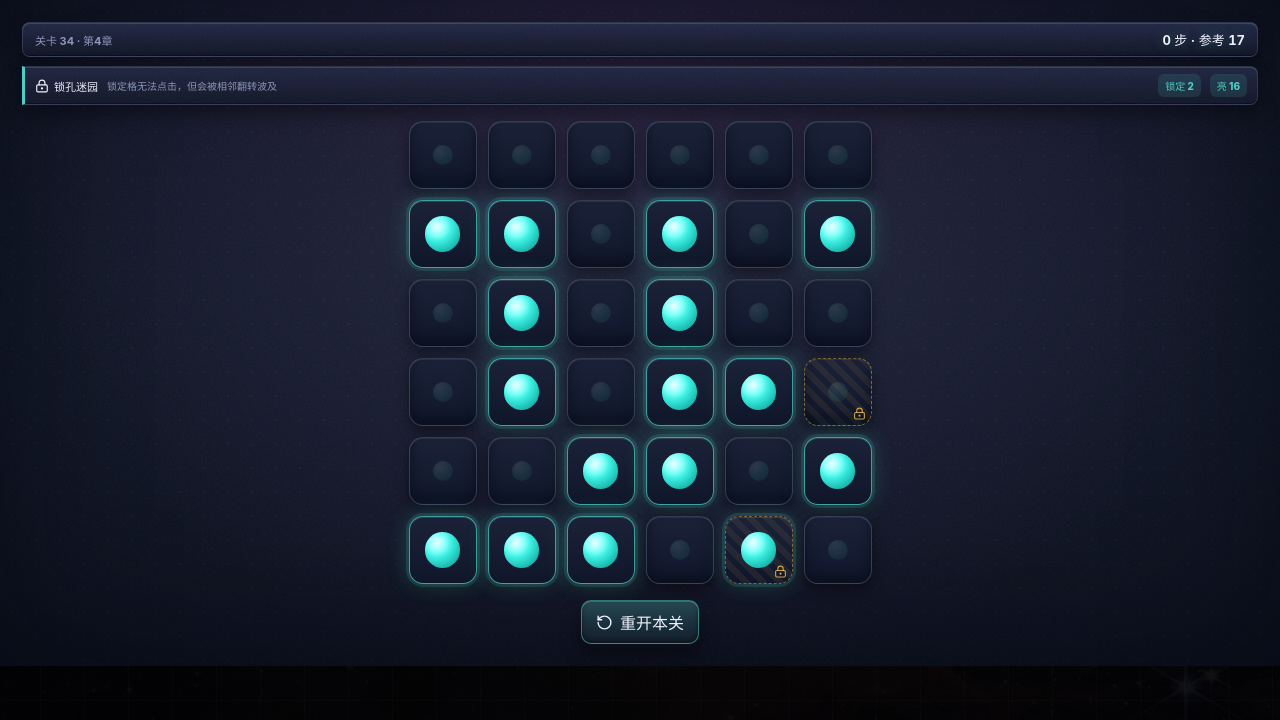
Test: lantern press tween › springs the cross of lamps around a press when motion is allowed
Click the button named "第5行第3列，灯亮" at {"x": 600, "y": 471}, box [566,437,634,505]
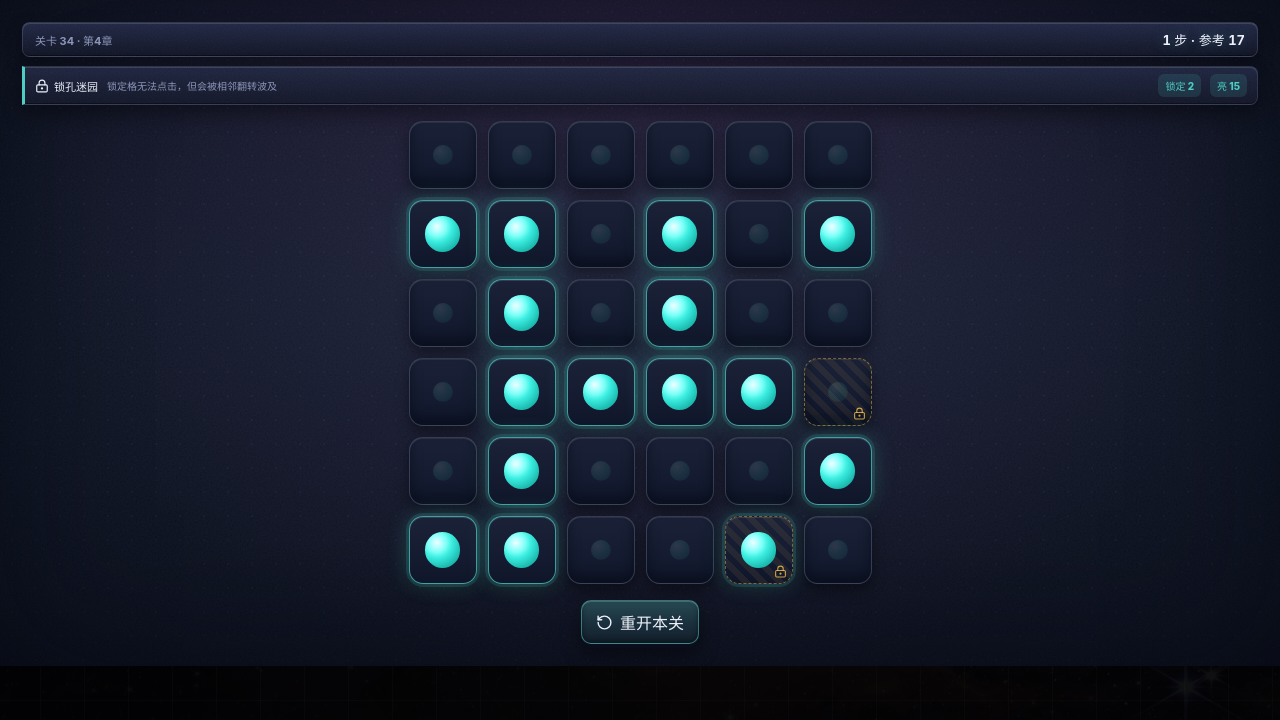
Expected: the element with class "lantern-readout" shows "1 步 · 参考 17", [22,22,1258,57]
